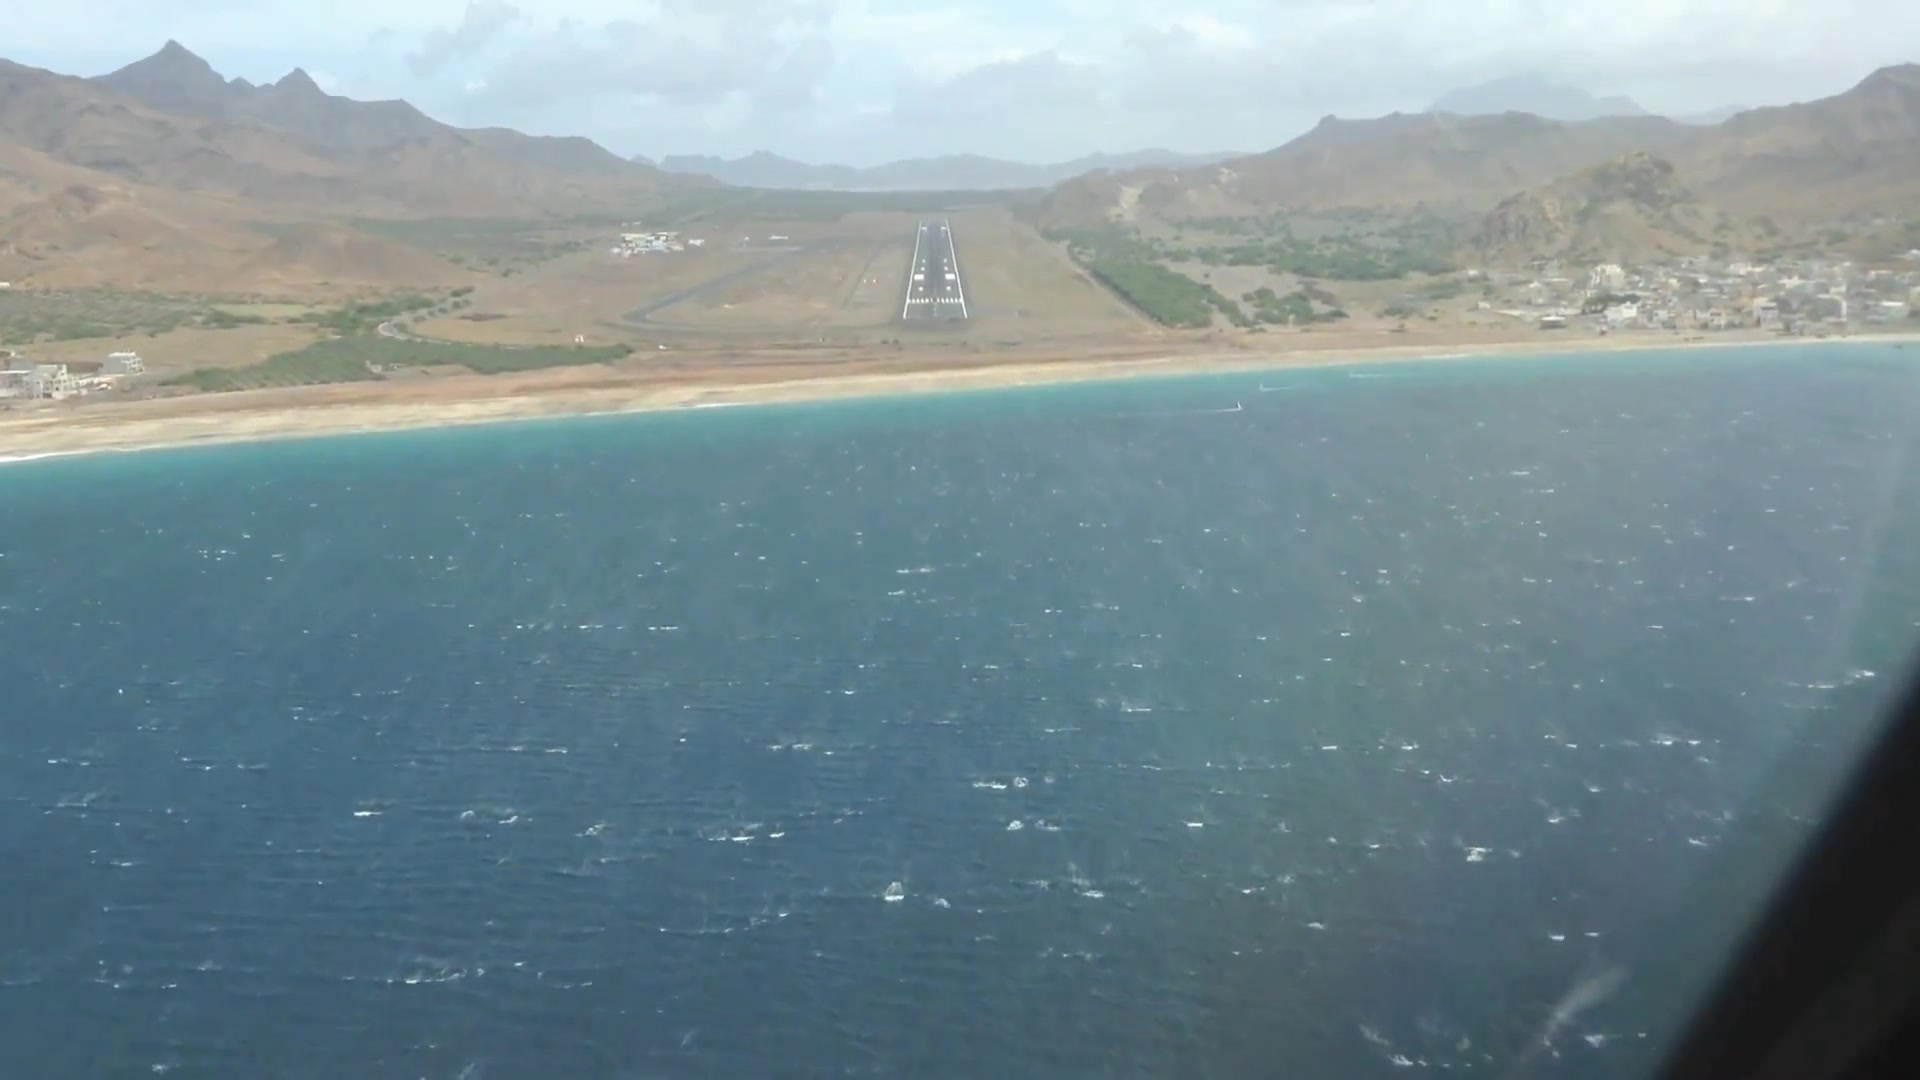entrance: (903, 294, 964, 305)
runway: (899, 218, 967, 323)
